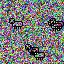sheep: (25, 44, 40, 56), (9, 17, 23, 29), (31, 49, 45, 61)
